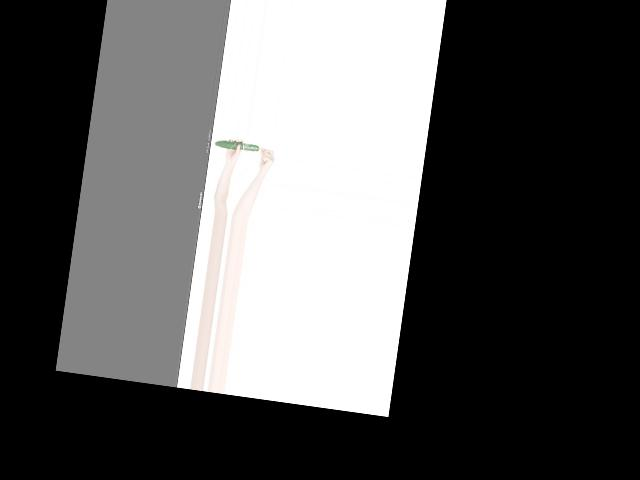cucumber: (213, 138, 259, 151)
